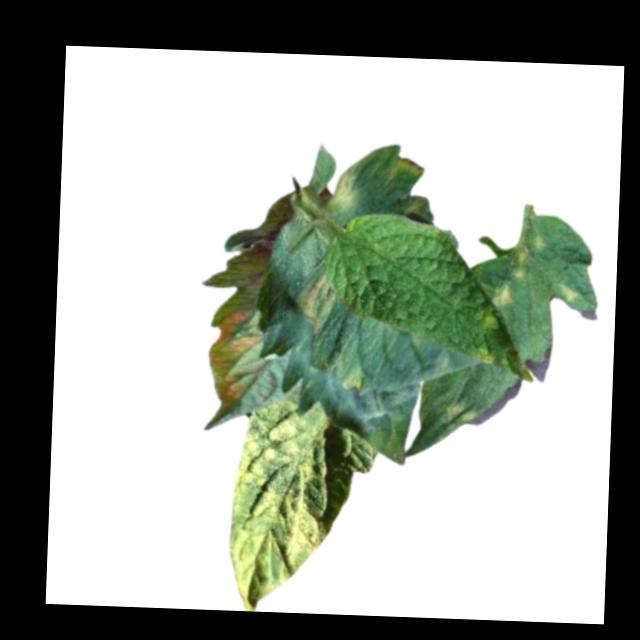Leaf_Mold: (226, 413, 333, 613), (207, 306, 267, 416), (490, 230, 542, 307), (301, 270, 343, 334), (328, 172, 361, 216), (443, 399, 481, 426), (390, 153, 423, 178), (343, 369, 368, 395), (471, 349, 497, 368), (562, 286, 580, 305)
